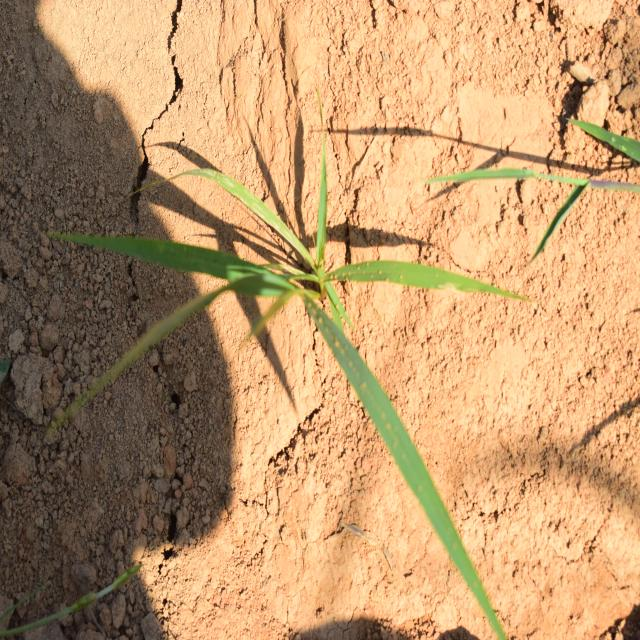green_foxtail: (123, 157, 471, 502)
